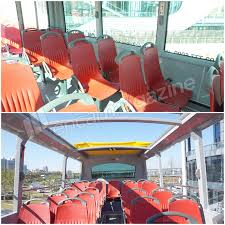seat: (118, 56, 176, 112)
